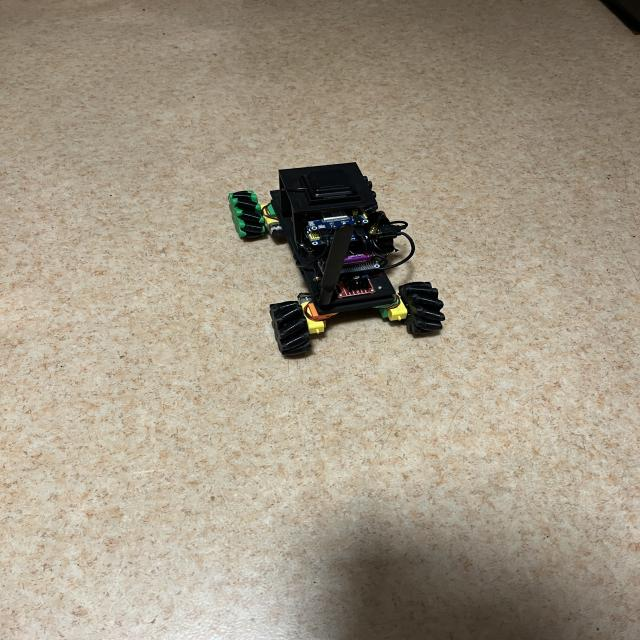robot: (228, 163, 445, 355)
